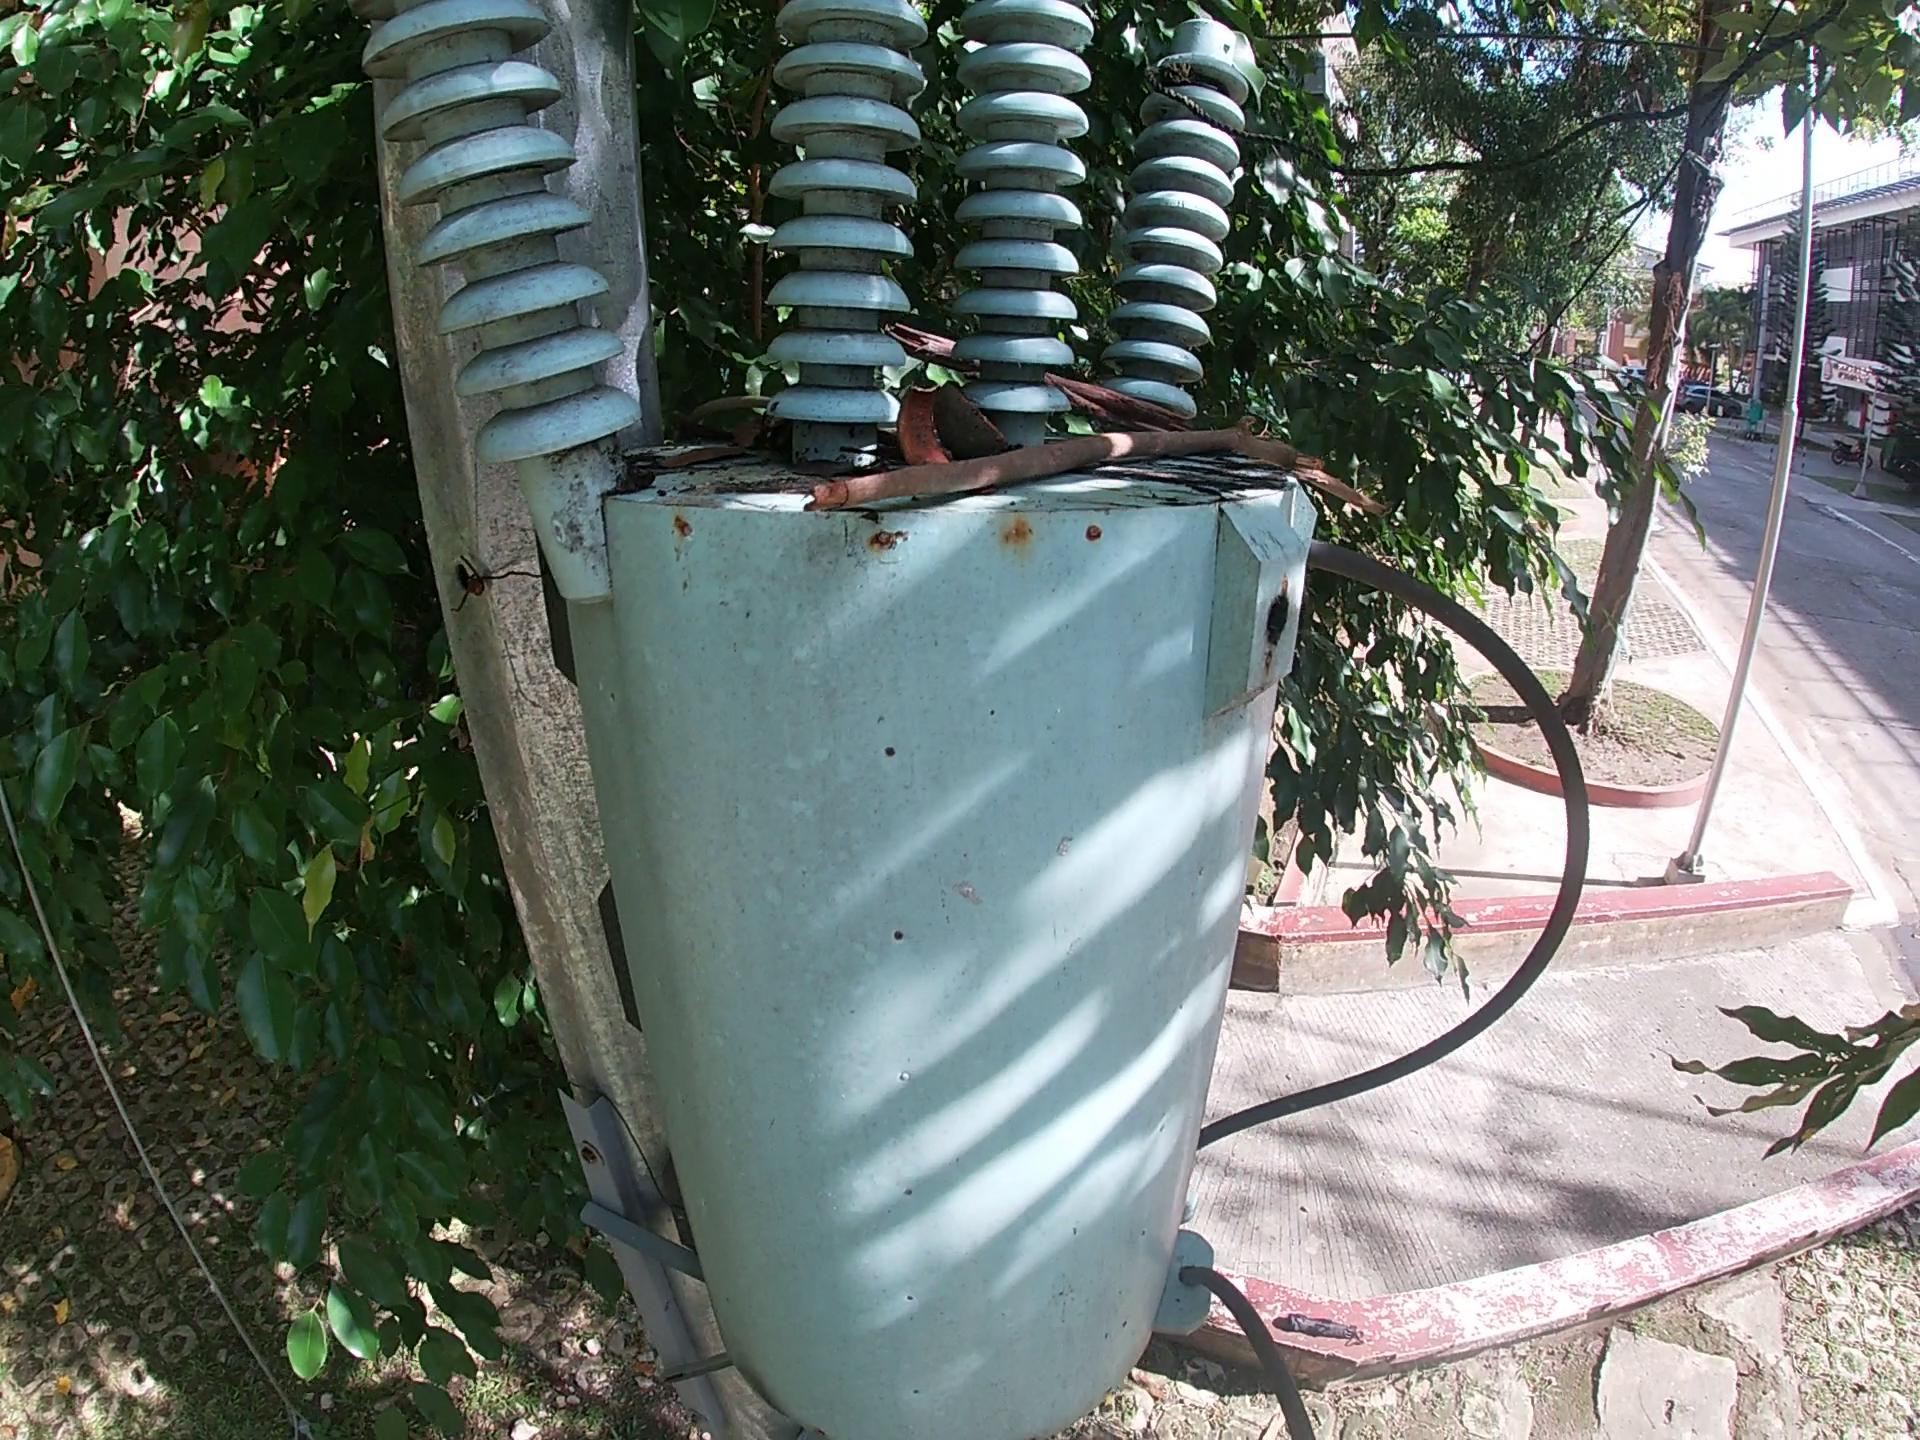leaf: (658, 445, 754, 478)
mahogany fruit: (934, 380, 1008, 455), (890, 383, 951, 472)
tree branch: (795, 410, 1398, 523), (887, 316, 1194, 439), (671, 387, 783, 439)
